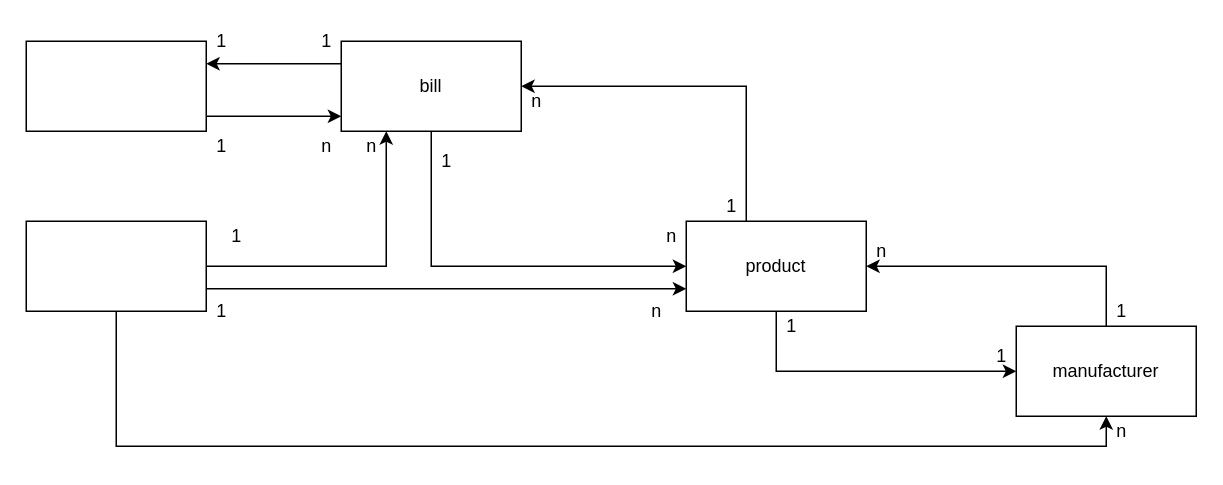
This 1223x485 diagram has some shape labels left out. The centre of each missing label's shape, as x and y in pixels:
"staff" goes at point 115,265.
"user" goes at point 115,85.
